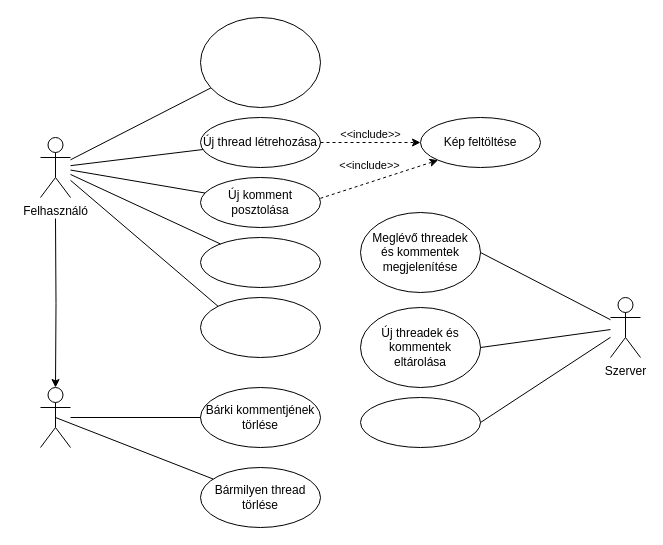
This 663x545 diagram has some shape labels left out. The centre of each missing label's shape, as x and y in pixels:
"Adminisztrátor" goes at point (55, 417).
"Kommentekre való szavazás" goes at point (260, 262).
"Meglévő threadek és kommentek böngészése" goes at point (260, 62).
"Saját komment törlése" goes at point (260, 327).
"Szavazatok eltárolása" goes at point (420, 422).
